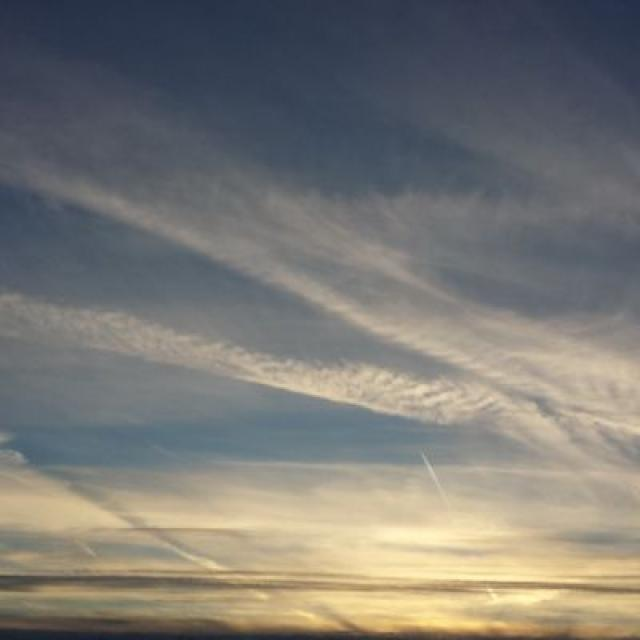Ct: (1, 49, 640, 541)
